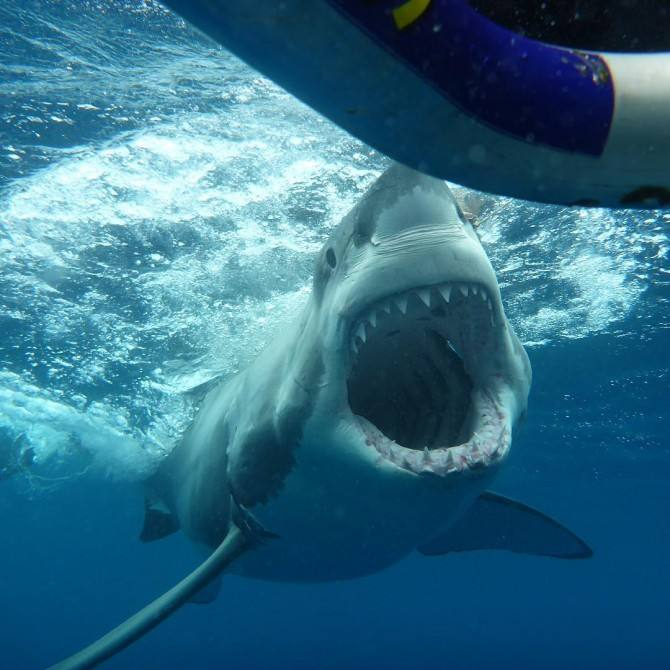shark: (67, 160, 596, 665)
